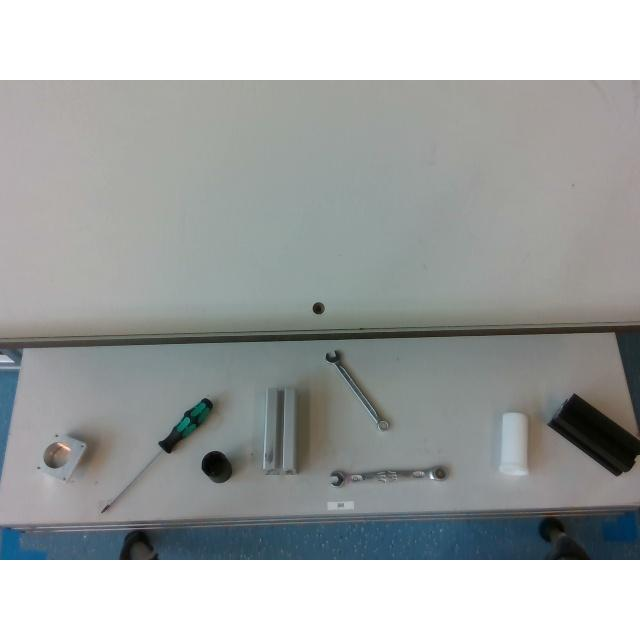S40_40_B: (548, 394, 640, 476)
S40_40_G: (262, 388, 298, 474)
Screwdriver: (96, 397, 212, 513)
Spacer: (499, 412, 528, 476)
Wrench: (329, 466, 449, 486)
